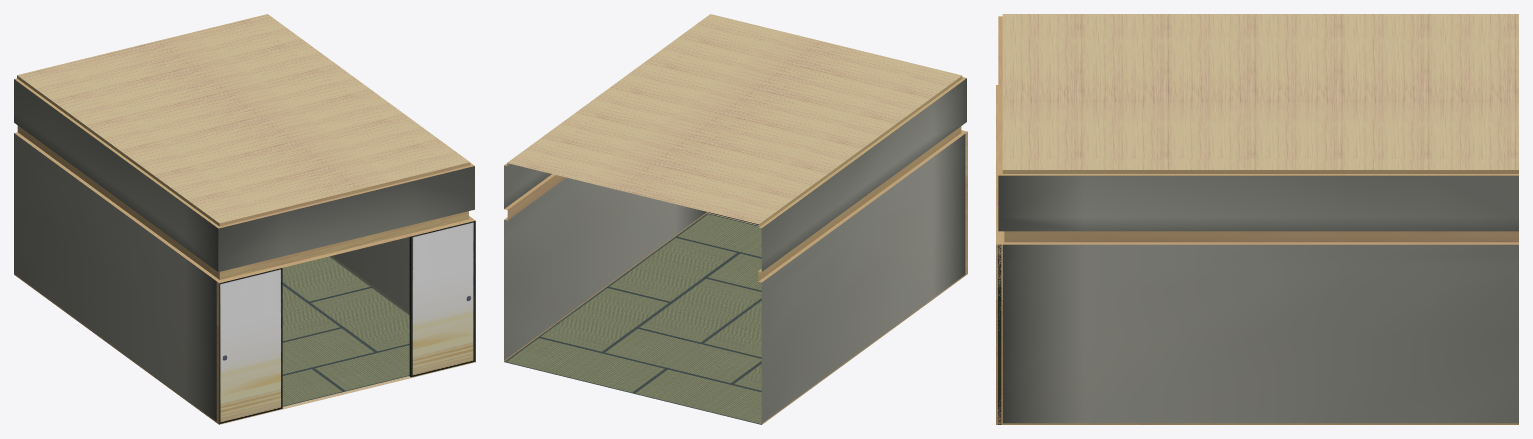
File: P05_room_model.fbx
3 views of the same model, side by side, from view 1: azimuth 30°, elevation 25°; view 2: azimuth 150°, elevation 25°; view 3: azimuth 270°, elevation 25° (orthographic). The views are drawn at different scales.
Visible parts, largest first — view 1: room_model; view 2: room_model; view 3: room_model.
Boxes of the visible parts, x1,y1,x2,y2 form: room_model: (14,14,475,424); room_model: (504,14,967,424); room_model: (996,14,1518,424).
Bounding box in the file's own units: 108 × 80 × 150.
